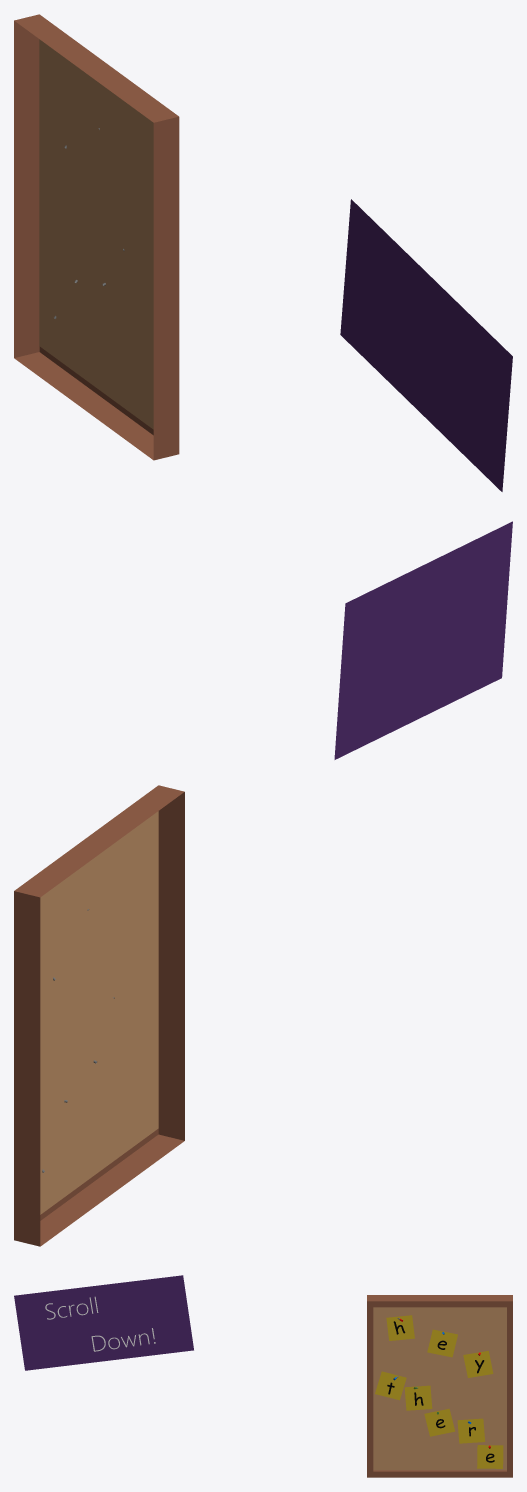
The model's file is Posters.glb.
3 views of the same model, one above another, from view 1: azimuth 30°, elevation 25°; view 2: azimuth 150°, elevation 25°; view 3: azimuth 270°, elevation 25° (orthographic). The views are drawn at different scales.
Visible parts, largest first — view 1: Posters; view 2: Posters; view 3: Posters.
Part boxes in pixels (x1,y1,x2,y2): Posters: (14, 14, 512, 491); Posters: (14, 521, 512, 1246); Posters: (14, 1275, 512, 1477).
Bounding box in the file's own units: 0.4647 × 5.31 × 11.93.
